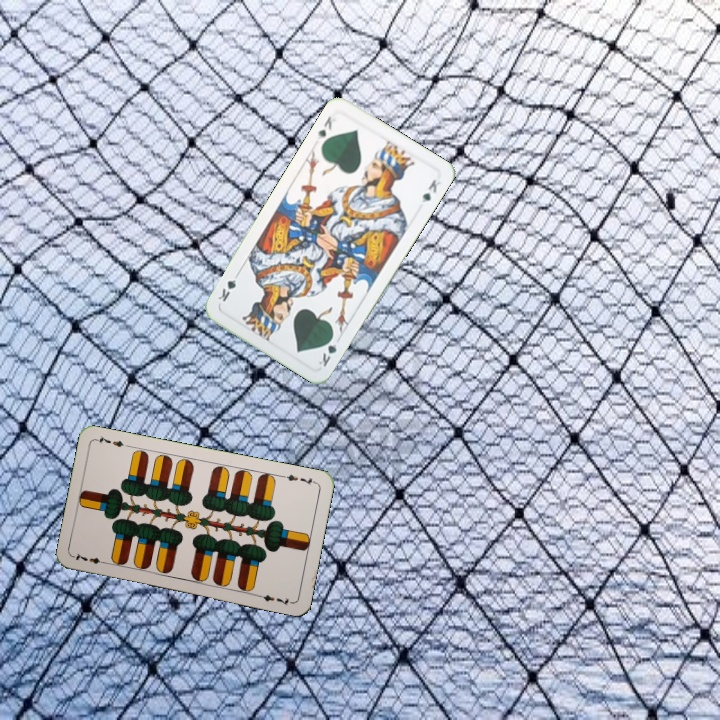E7: (278, 470, 318, 488), (70, 549, 110, 567)
GK: (314, 331, 339, 369), (314, 112, 339, 143)
